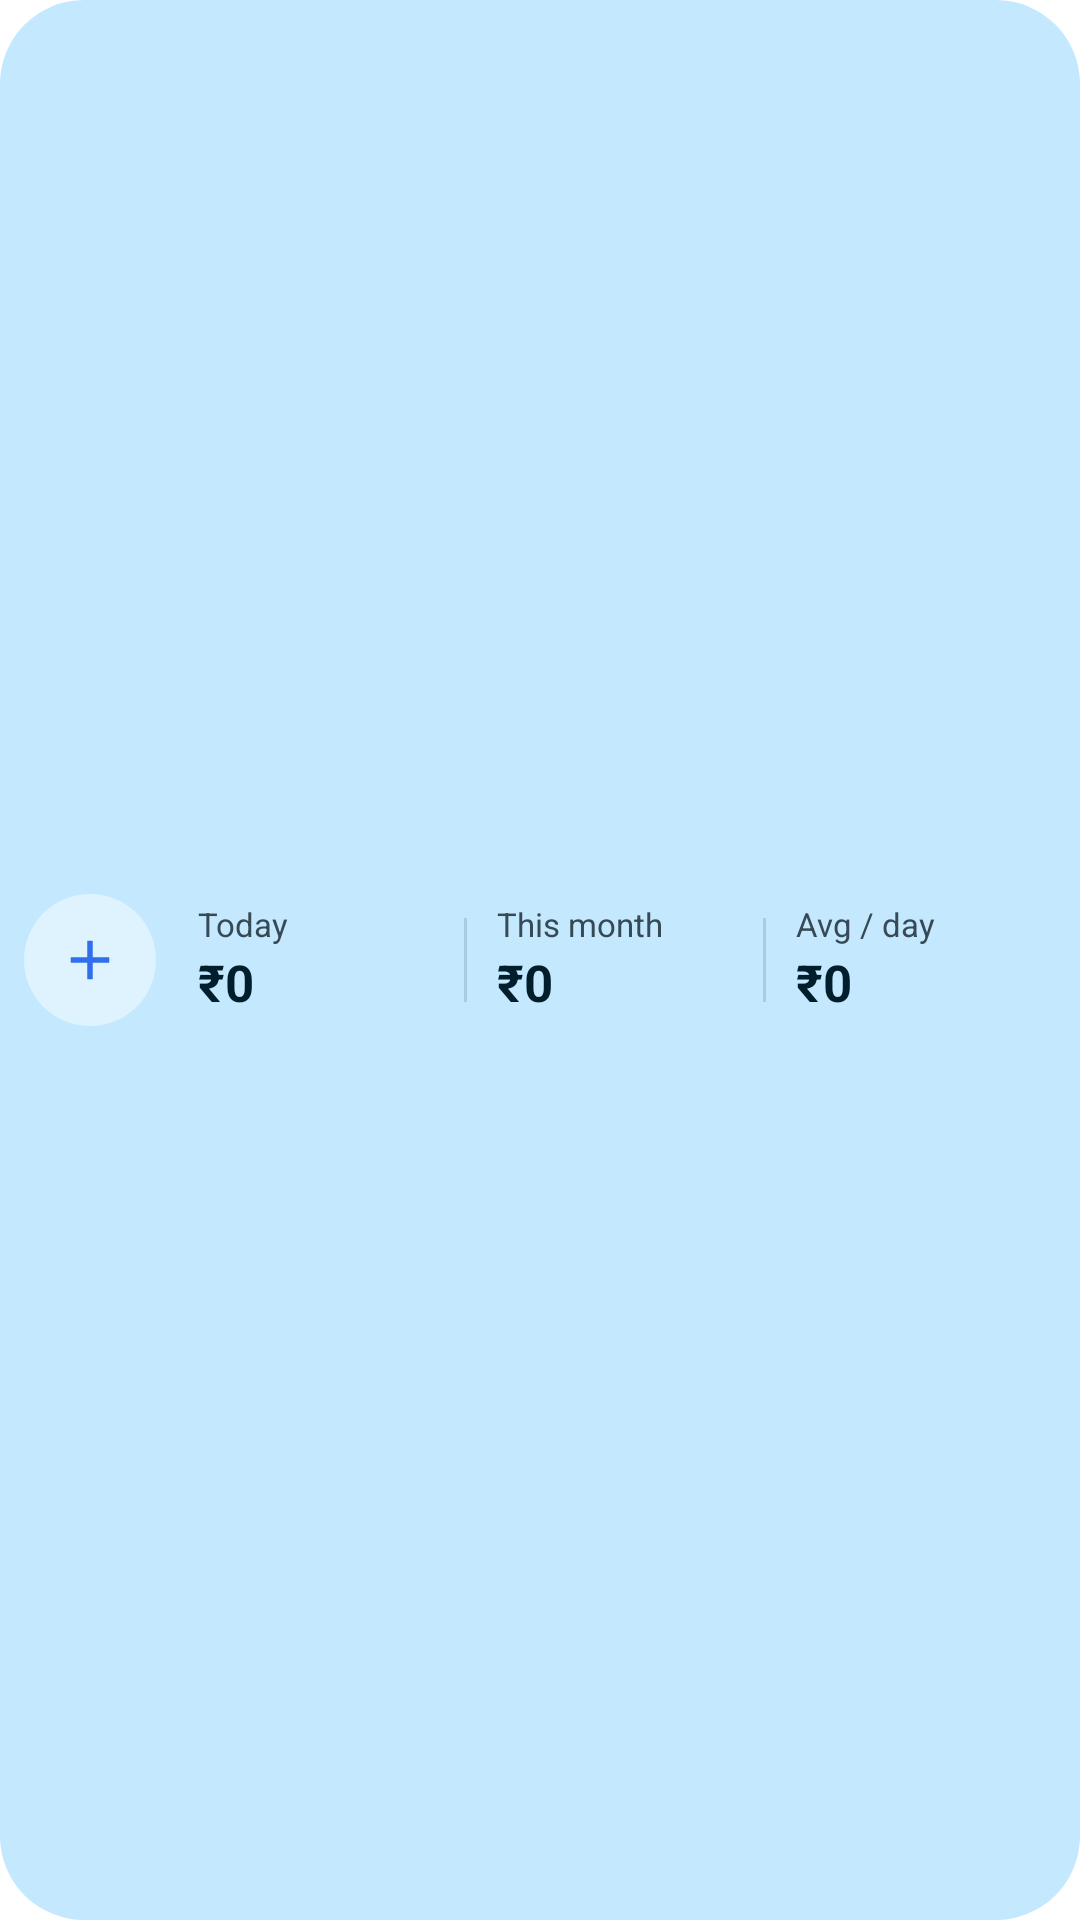

Icon bounding boxes for this 1080px×1920px phone screenshot, format [x1=x1, y1=y1, x2=x2, y2=y2]:
plus: [x1=70, y1=940, x2=110, y2=980]
